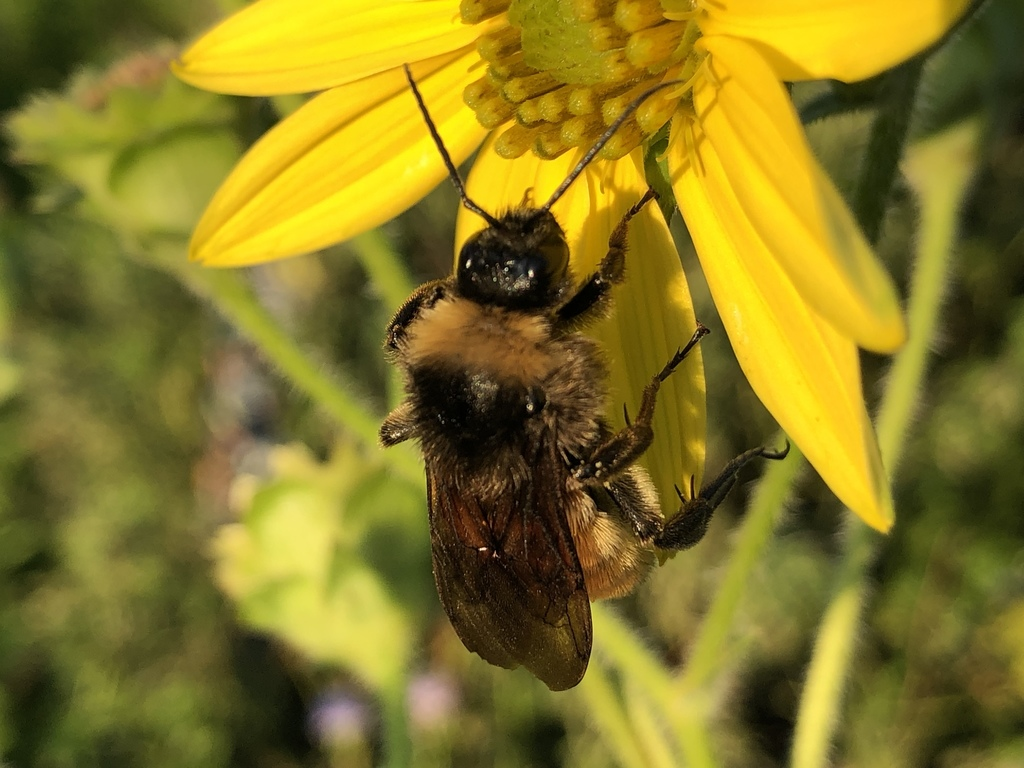bumblebee: (378, 60, 793, 697)
